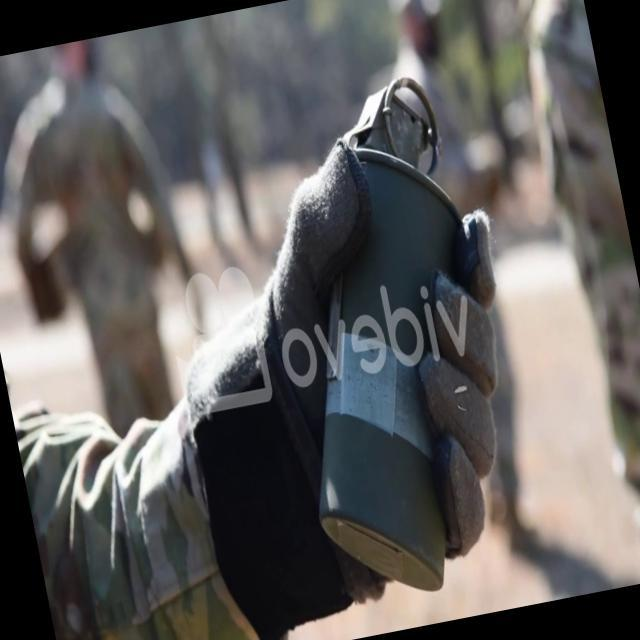grenade: (238, 70, 534, 614)
